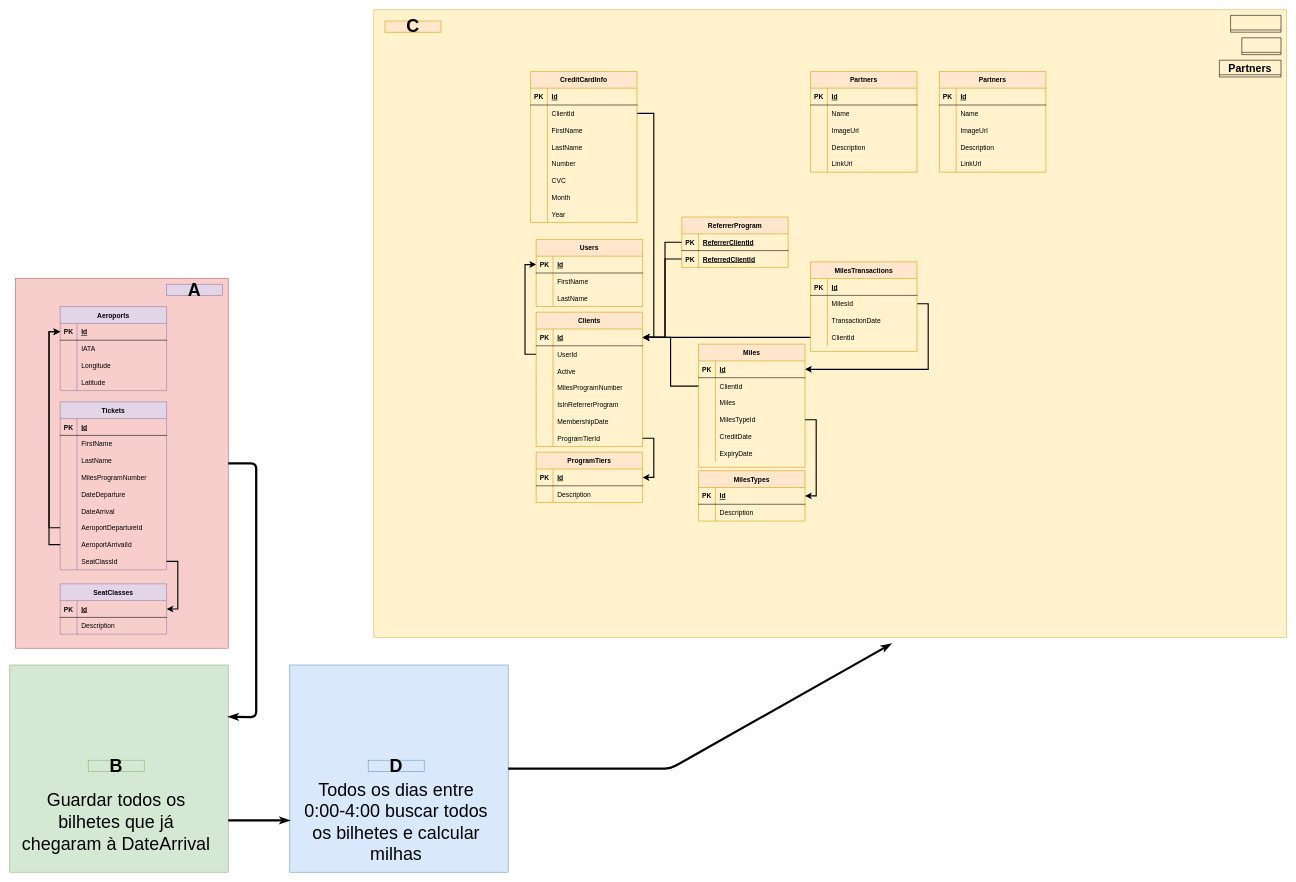
This 1296x882 diagram has some shape labels left out. Here are the shapes that lost their labels. From the top down, the centre of each, then its label:
At (1255,23): "Billing".
At (1261,46): "Ads".
